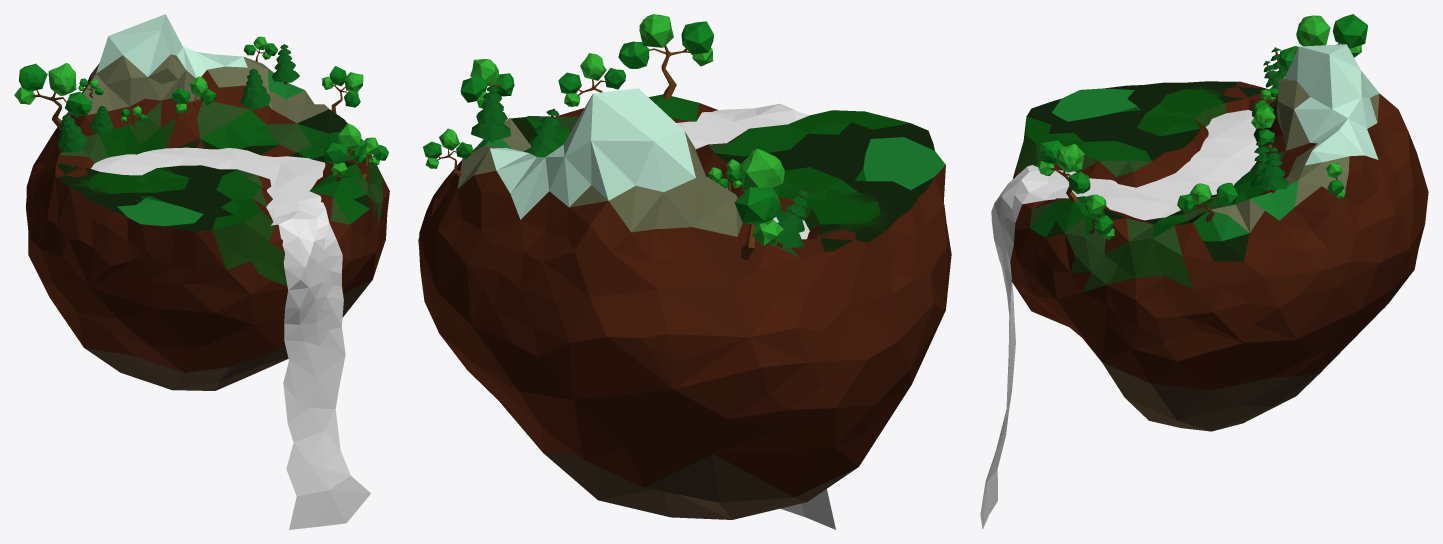
File: Rand04Water_Fracture.fbx
3 views of the same model, side by side, from view 1: azimuth 30°, elevation 25°; view 2: azimuth 150°, elevation 25°; view 3: azimuth 270°, elevation 25° (orthographic). The views are drawn at different scales.
Visible parts, largest first — view 1: Ground, Plane, Tree. 001, Ground_cell.155, Ground_cell.046, Ground_cell.089, Ground_cell.016, Ground_cell.273, Ground_cell.234, Ground_cell.181, Ground_cell.087, Ground_cell.013 (+32 smaller); view 2: Ground, Ground_cell.081, Ground_cell.281, Ground_cell.046, Ground_cell.209, Plane, Tree. 001, Ground_cell.077, Tree. 001.002, Ground_cell.020, Ground_cell.005, Ground_cell.158 (+39 smaller); view 3: Ground, Plane, Ground_cell.126, Ground_cell.258, Ground_cell.281, Tree. 001, Ground_cell.085, Tree. 001.002, Ground_cell.116, Ground_cell.048, Ground_cell.188, Ground_cell.271 (+21 smaller).
Part boxes in pixels (box(x1,y1,x2,y2)): Ground: box(26, 30, 389, 390); Plane: box(91, 147, 370, 529); Tree. 001: box(14, 63, 92, 130); Ground_cell.155: box(219, 283, 284, 336); Ground_cell.046: box(39, 183, 93, 268); Ground_cell.089: box(118, 262, 183, 324); Ground_cell.016: box(188, 227, 242, 288); Ground_cell.273: box(178, 280, 233, 335); Ground_cell.234: box(101, 39, 160, 91); Ground_cell.181: box(123, 94, 181, 141); Ground_cell.087: box(178, 94, 228, 147); Ground_cell.013: box(174, 326, 238, 362); Ground: box(419, 90, 951, 519); Ground_cell.081: box(655, 381, 763, 469); Ground_cell.281: box(427, 220, 508, 322); Ground_cell.046: box(865, 215, 934, 353); Ground_cell.209: box(750, 359, 880, 444); Plane: box(676, 103, 835, 529); Tree. 001: box(734, 148, 784, 260); Ground_cell.077: box(817, 274, 895, 358); Tree. 001.002: box(618, 14, 713, 99); Ground_cell.020: box(785, 351, 902, 469); Ground_cell.005: box(746, 284, 862, 378); Ground_cell.158: box(503, 162, 561, 251); Ground: box(1013, 44, 1427, 431); Plane: box(980, 110, 1259, 529); Ground_cell.126: box(1122, 299, 1247, 360); Ground_cell.258: box(1174, 247, 1280, 310); Ground_cell.281: box(1351, 178, 1406, 262); Tree. 001: box(1279, 14, 1367, 70); Ground_cell.085: box(1266, 185, 1334, 271); Tree. 001.002: box(1037, 140, 1090, 201); Ground_cell.116: box(1211, 198, 1270, 263); Ground_cell.048: box(1278, 87, 1340, 141); Ground_cell.188: box(1150, 385, 1223, 418); Ground_cell.271: box(1294, 96, 1354, 149).
Size of the model in its own units: 1945 by 2365 by 2089.
